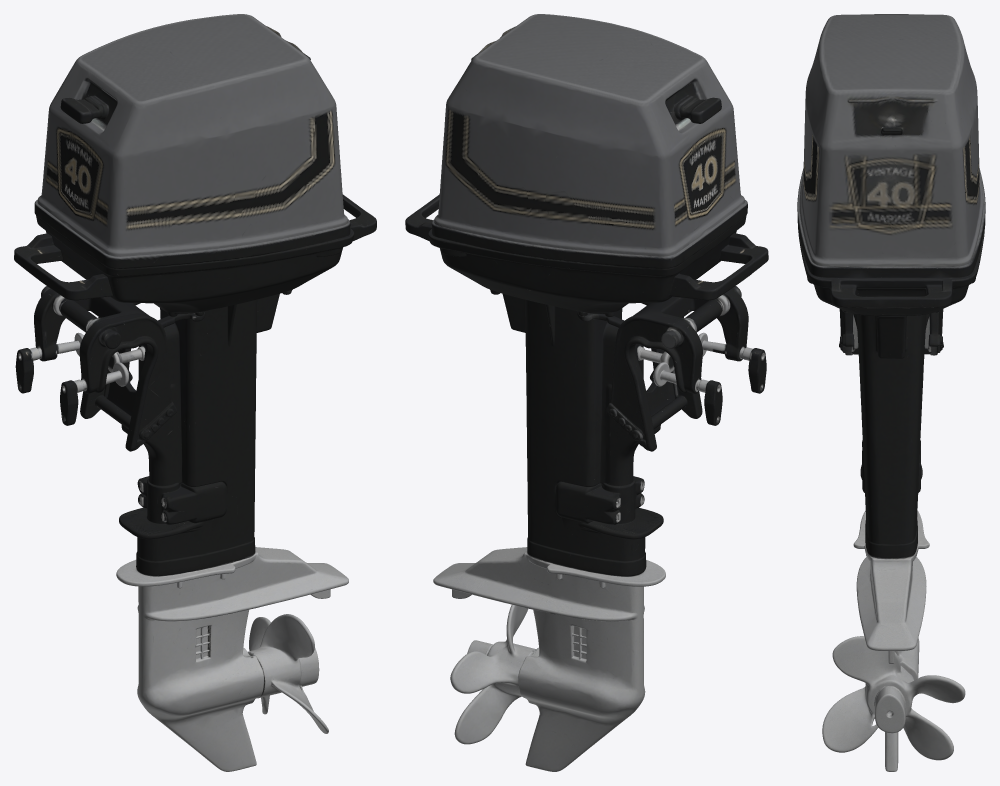
File: peramoottori_meshy.glb
3 renders of one model, left to right at view 1: azimuth 30°, elevation 25°; view 2: azimuth 150°, elevation 25°; view 3: azimuth 270°, elevation 25°, orthographic. The views are drawn at different scales.
Bounding box in the file's own units: 0.5365 × 1.2 × 0.2938.
Materials: 1 (1 with a texture image).
